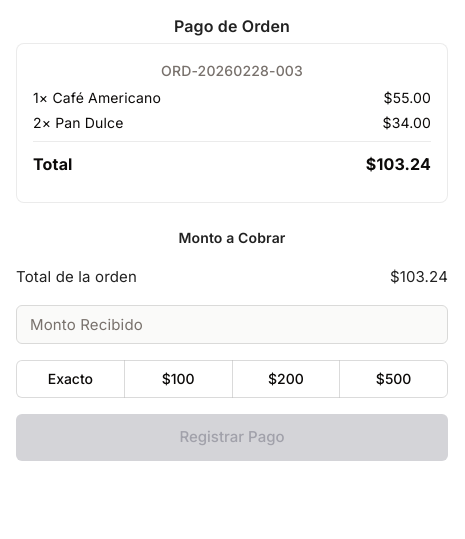
Test: POS flow — Cart → Orden → Pago › PaymentPage: registering payment navigates to /pos/confirmation
Expected: the heading "Pago de Orden" is shown, top-left (174, 16), bottom-right (290, 36)
Click the button named "200 pesos" at (286, 379), box top-left (232, 360), bottom-right (340, 398)
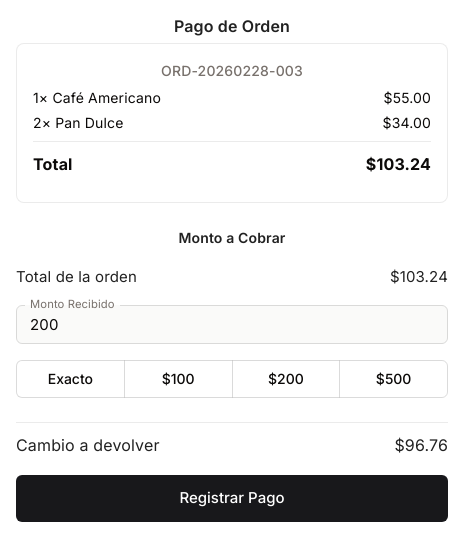
Click the button "Registrar Pago" at (232, 498), box top-left (16, 475), bottom-right (448, 522)
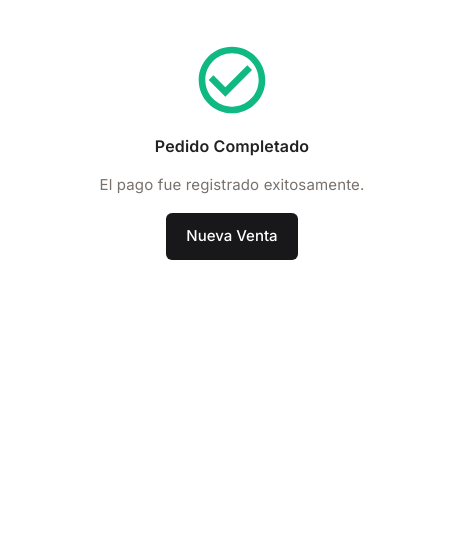
Expected: the heading "Pedido Completado" is shown, top-left (155, 136), bottom-right (309, 157)
